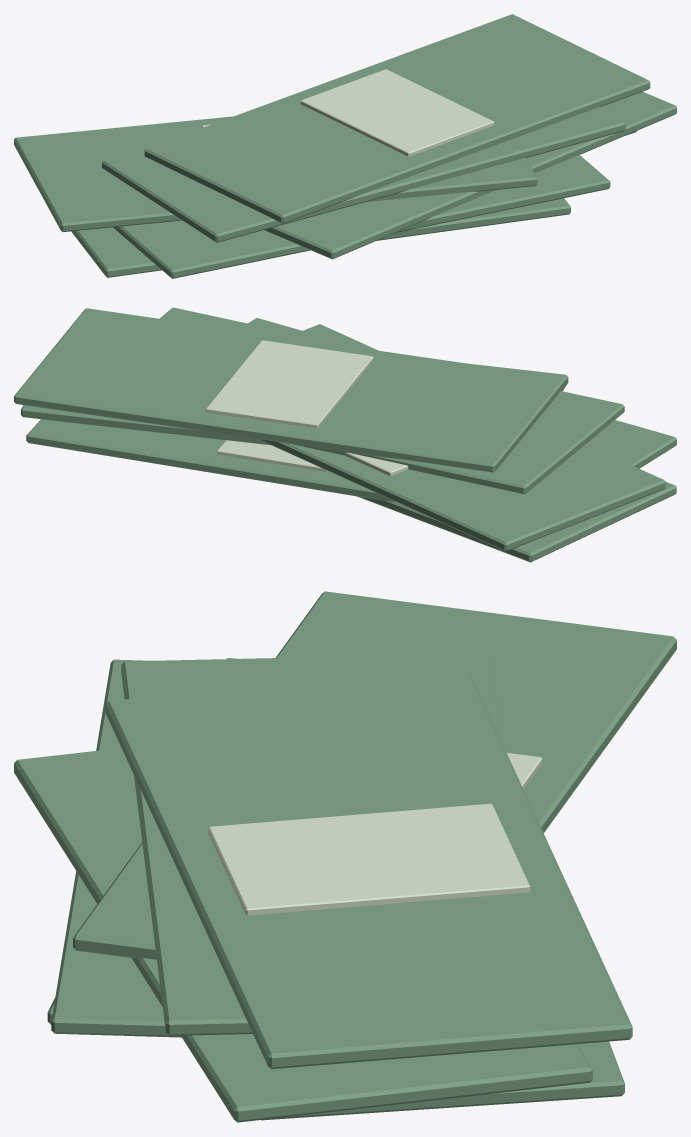
The model's file is Cash.glb.
3 renders of one model, top to bottom at view 1: azimuth 30°, elevation 25°; view 2: azimuth 150°, elevation 25°; view 3: azimuth 270°, elevation 25°, orthographic. The views are drawn at different scales.
Parts seen in each view (by area): view 1: StaticVisual; view 2: StaticVisual; view 3: StaticVisual.
Part boxes in pixels (x1,y1,x2,y2): StaticVisual: (14, 14, 676, 278); StaticVisual: (14, 307, 676, 562); StaticVisual: (14, 591, 676, 1122).
Size of the model in its own units: 0.4185 by 0.0385 by 0.232.
